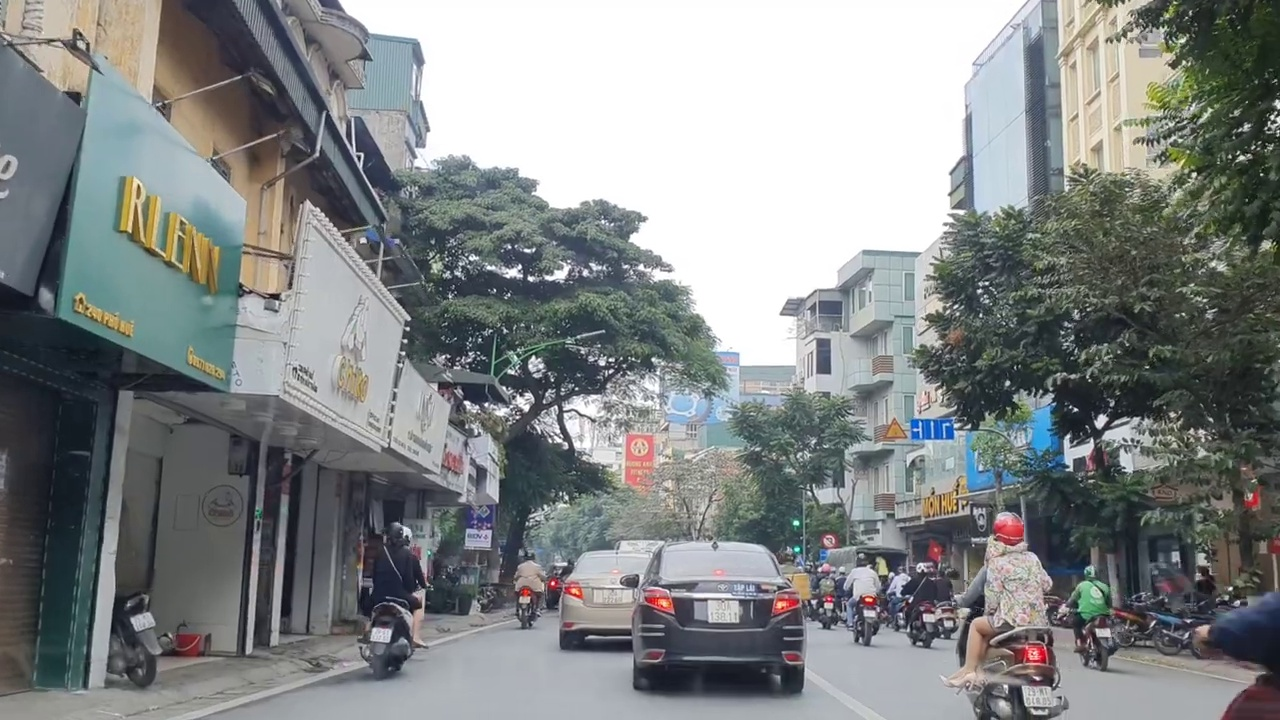person: (703, 595, 739, 623), (1022, 680, 1055, 705), (369, 620, 392, 648), (595, 585, 623, 602), (514, 591, 534, 605), (861, 608, 878, 618), (921, 612, 936, 623), (942, 618, 954, 630), (824, 600, 833, 609)
